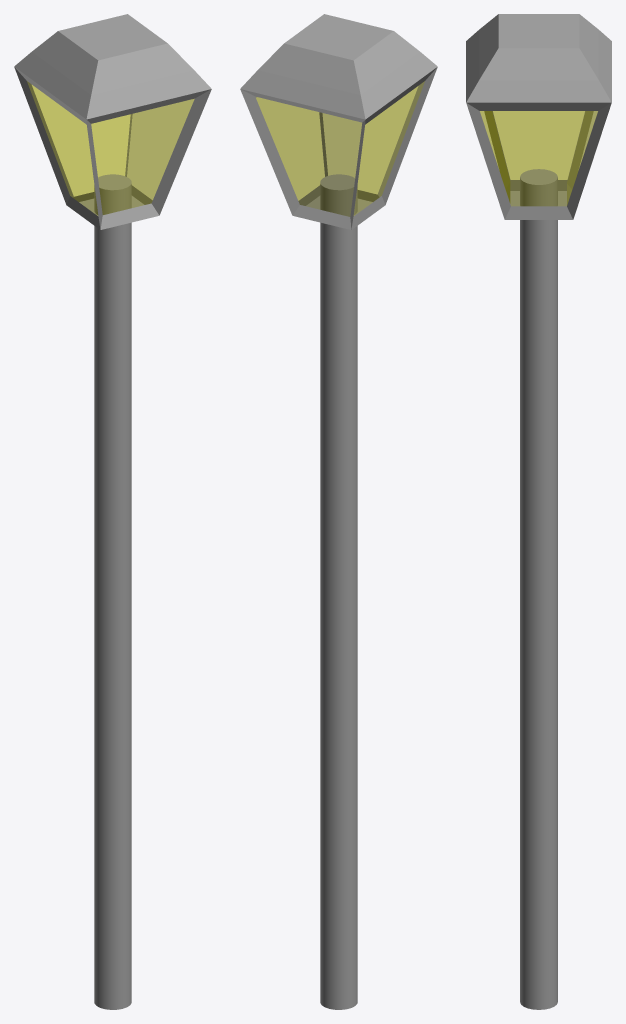
File: Lampione.fbx
3 renders of one model, left to right at view 1: azimuth 30°, elevation 25°; view 2: azimuth 150°, elevation 25°; view 3: azimuth 270°, elevation 25°, orthographic.
Visible parts, largest first — view 1: pCube2; view 2: pCube2; view 3: pCube2.
Part boxes in pixels (x1,y1,x2,y2): pCube2: (14,14,211,1009); pCube2: (240,14,437,1009); pCube2: (466,14,611,1009).
Bounding box in the file's own units: 7.68 × 56.5 × 7.68.
